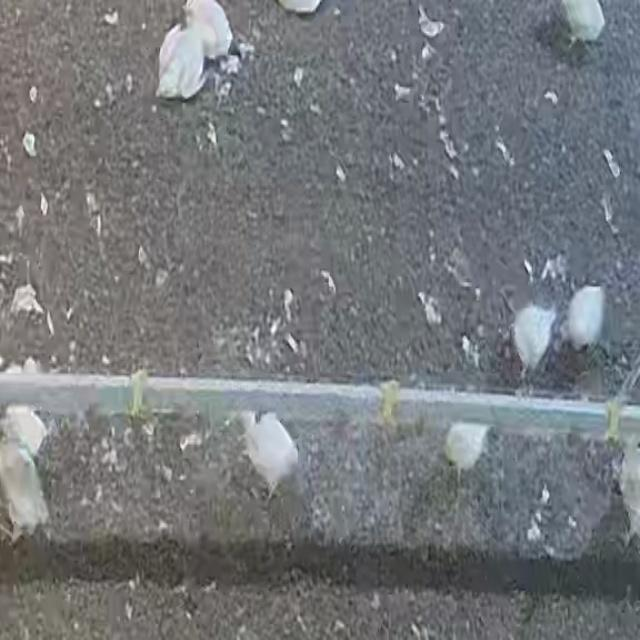chicken: (234, 408, 304, 505), (149, 22, 213, 106), (552, 286, 610, 353), (508, 306, 556, 371)
